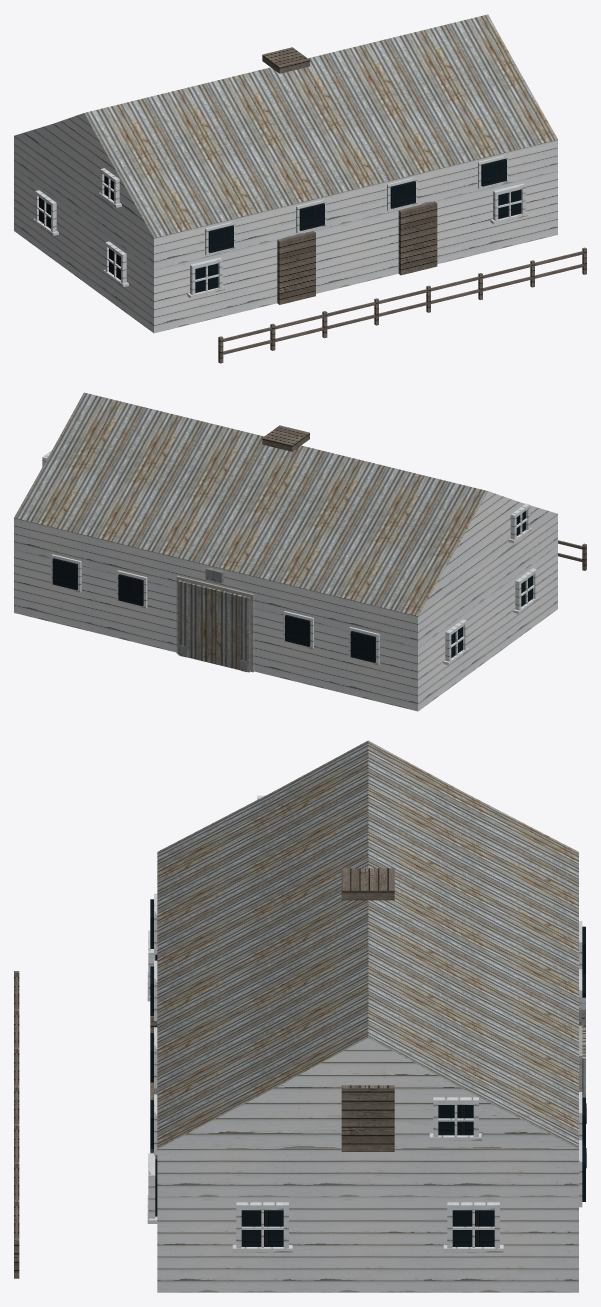
The model's file is sheep-barn_lod0.gltf.
3 renders of one model, top to bottom at view 1: azimuth 30°, elevation 25°; view 2: azimuth 150°, elevation 25°; view 3: azimuth 270°, elevation 25°, orthographic. The views are drawn at different scales.
Parts seen in each view (by area): view 1: sheep-barn_roof, sheep-barn_walls, sheep-barn_gable_ends, sheep-barn_fen_20-white-clapboard_0, sheep-barn_fen_07-glass-curtain-blue_1_t, sheep-barn__paddock_fence, sheep-barn__dutch_door_b, sheep-barn__dutch_door_a, sheep-barn__cupola; view 2: sheep-barn_roof, sheep-barn_walls, sheep-barn_fen_21-corrugated-steel_3, sheep-barn_gable_ends, sheep-barn_fen_07-glass-curtain-blue_1_t, sheep-barn_fen_20-white-clapboard_0, sheep-barn_fen_15-concrete-boardformed_2, sheep-barn__cupola; view 3: sheep-barn_roof, sheep-barn_walls, sheep-barn_gable_ends, sheep-barn_fen_20-white-clapboard_0, sheep-barn_fen_07-glass-curtain-blue_1_t, sheep-barn__loft_door, sheep-barn__paddock_fence, sheep-barn__cupola.
Part boxes in pixels (bbox=[...]): sheep-barn_roof: bbox=[84, 14, 557, 237]; sheep-barn_walls: bbox=[14, 136, 557, 333]; sheep-barn_gable_ends: bbox=[14, 113, 153, 237]; sheep-barn_fen_20-white-clapboard_0: bbox=[33, 155, 527, 298]; sheep-barn_fen_07-glass-curtain-blue_1_t: bbox=[39, 159, 521, 292]; sheep-barn__paddock_fence: bbox=[218, 247, 586, 363]; sheep-barn__dutch_door_b: bbox=[398, 201, 437, 275]; sheep-barn__dutch_door_a: bbox=[277, 231, 315, 304]; sheep-barn__cupola: bbox=[262, 47, 309, 73]; sheep-barn_roof: bbox=[14, 392, 487, 616]; sheep-barn_walls: bbox=[14, 514, 557, 711]; sheep-barn_fen_21-corrugated-steel_3: bbox=[178, 580, 250, 672]; sheep-barn_gable_ends: bbox=[418, 491, 557, 615]; sheep-barn_fen_07-glass-curtain-blue_1_t: bbox=[52, 511, 532, 662]; sheep-barn_fen_20-white-clapboard_0: bbox=[42, 450, 538, 665]; sheep-barn_fen_15-concrete-boardformed_2: bbox=[176, 575, 254, 672]; sheep-barn__cupola: bbox=[262, 425, 309, 451]; sheep-barn_roof: bbox=[157, 740, 578, 1148]; sheep-barn_walls: bbox=[157, 1149, 578, 1292]; sheep-barn_gable_ends: bbox=[158, 1037, 578, 1148]; sheep-barn_fen_20-white-clapboard_0: bbox=[147, 795, 582, 1252]; sheep-barn_fen_07-glass-curtain-blue_1_t: bbox=[150, 899, 585, 1246]; sheep-barn__loft_door: bbox=[341, 1085, 394, 1151]; sheep-barn__paddock_fence: bbox=[14, 971, 19, 1278]; sheep-barn__cupola: bbox=[341, 868, 394, 900].
Size of the model in its own units: 20.55 by 8.3 by 16.3.
